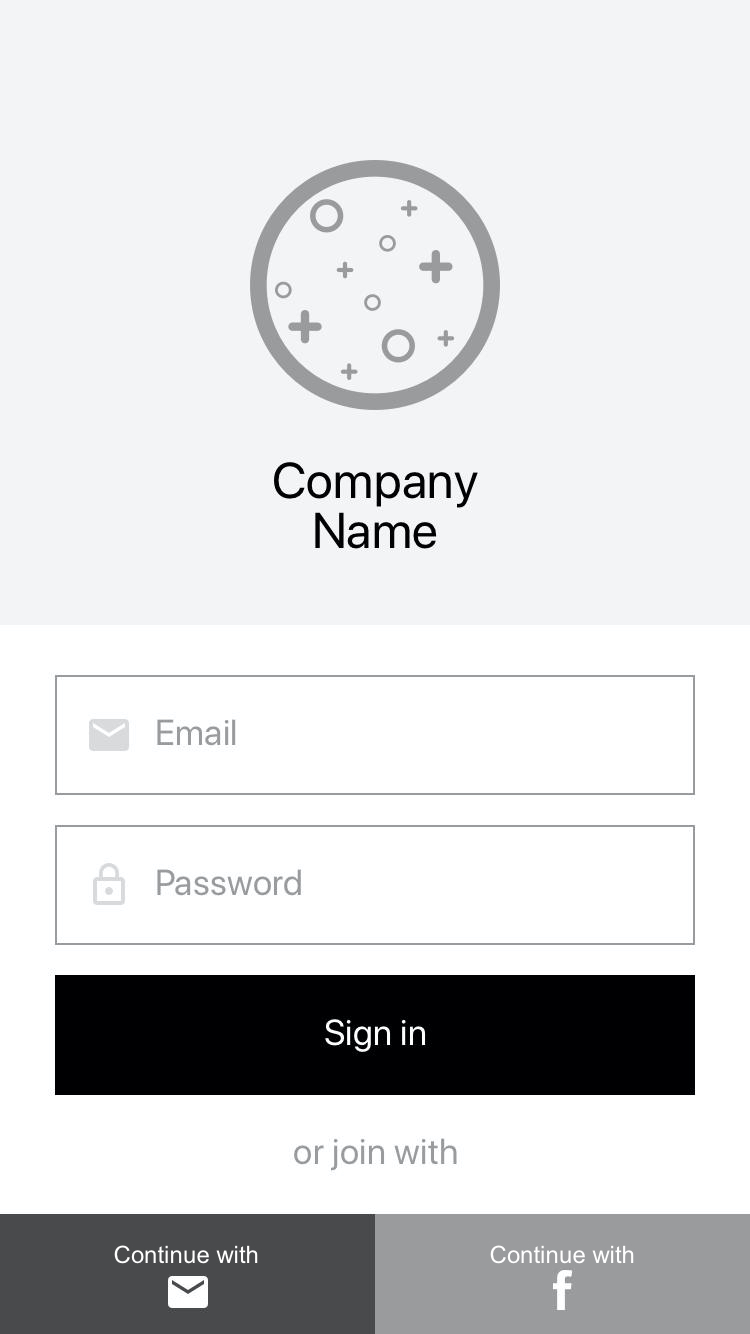EditText: (56, 675, 695, 796), (56, 825, 695, 946)
Icon: (94, 863, 126, 906), (89, 719, 130, 752)
Image: (250, 160, 501, 411)
Text: (274, 462, 479, 550), (293, 1138, 460, 1169), (157, 868, 303, 896), (157, 719, 237, 746)
TextButton: (56, 975, 695, 1096), (375, 1214, 750, 1334), (1, 1214, 375, 1334)
